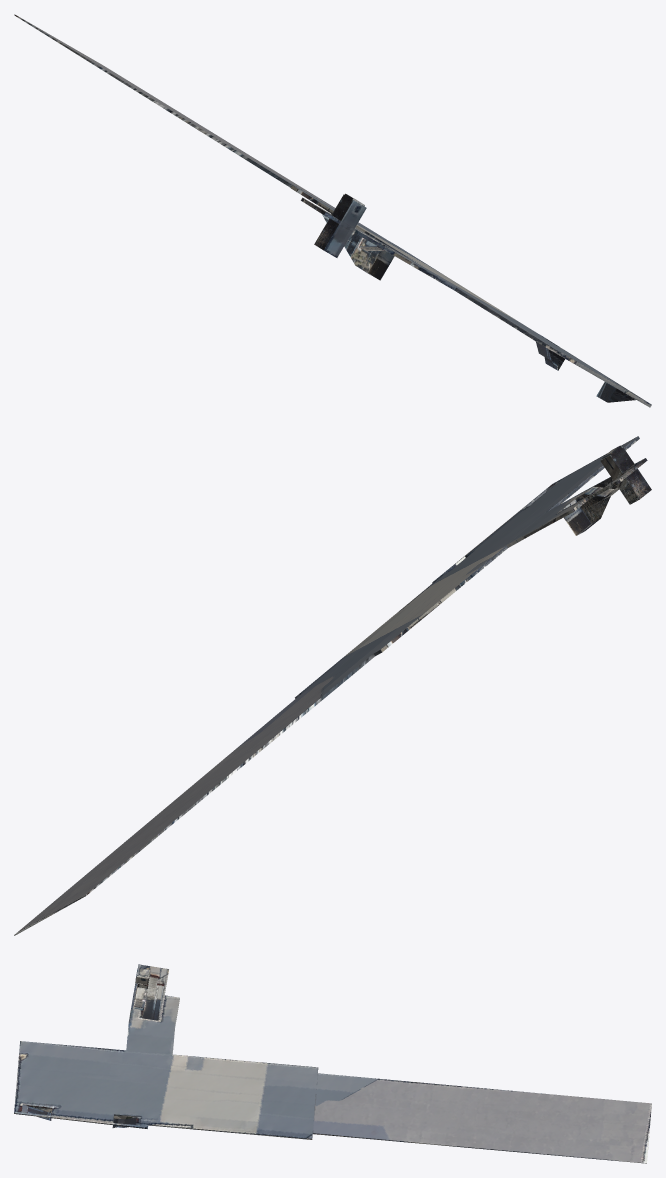
3 views of the same model, one above another, from view 1: azimuth 30°, elevation 25°; view 2: azimuth 150°, elevation 25°; view 3: azimuth 270°, elevation 25° (orthographic). The views are drawn at different scales.
Visible parts, largest first — view 1: BAG_0599100000638397 (×4); view 2: BAG_0599100000638397 (×4); view 3: BAG_0599100000638397 (×5).
Part boxes in pixels (x1=…): BAG_0599100000638397 (×4): x1=14, y1=14, x2=651, y2=407; BAG_0599100000638397 (×4): x1=14, y1=436, x2=651, y2=935; BAG_0599100000638397 (×5): x1=14, y1=964, x2=651, y2=1163.
Bounding box in the file's own units: 39.07 × 39.52 × 163.
Materials: 7 (7 with a texture image).
